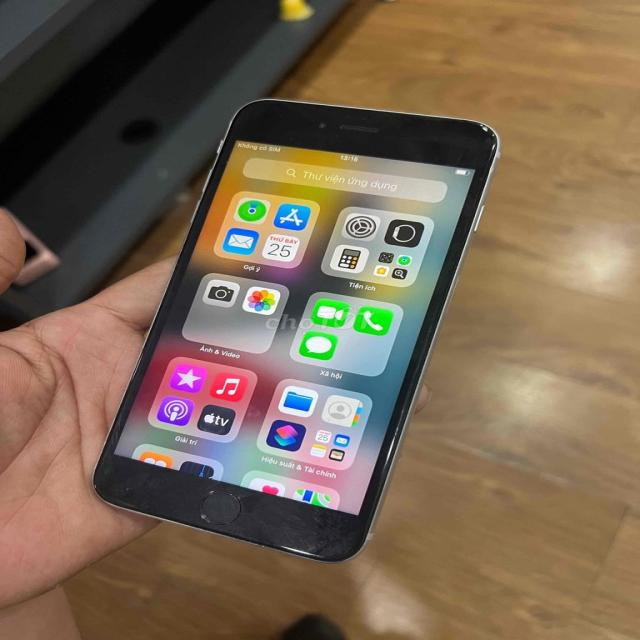gen_6: (93, 100, 498, 562)
